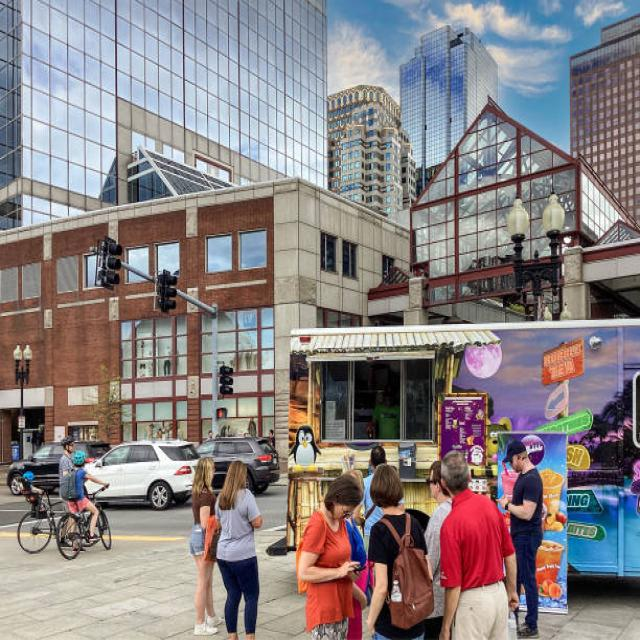Emperan: (284, 319, 640, 636)
